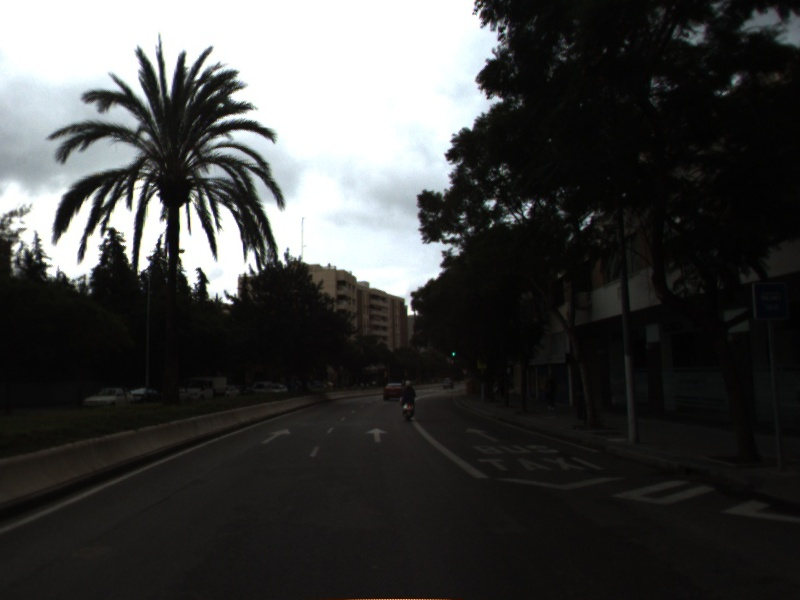STRAIGHT: (463, 425, 502, 443), (259, 426, 293, 446), (363, 425, 390, 444)
